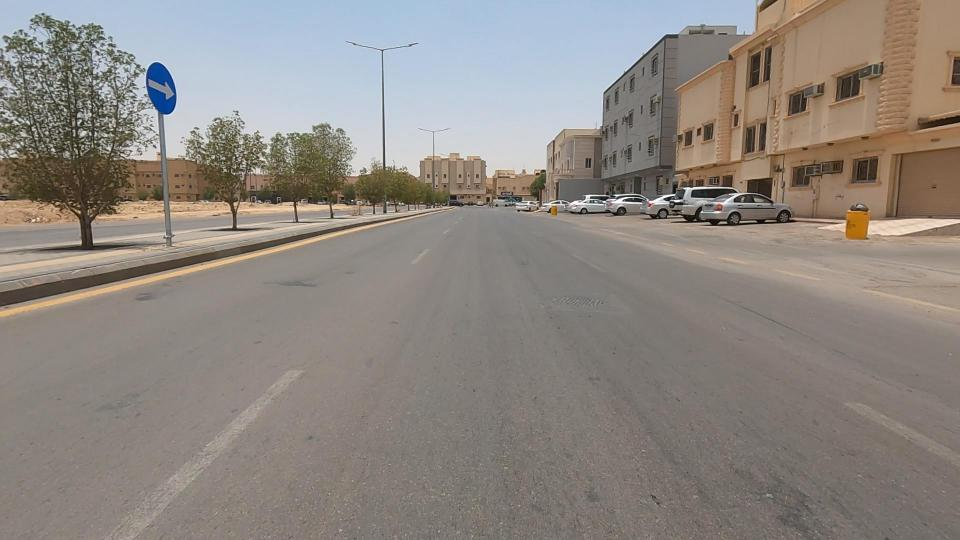GARBAGE: (832, 173, 893, 237), (0, 201, 76, 242)
